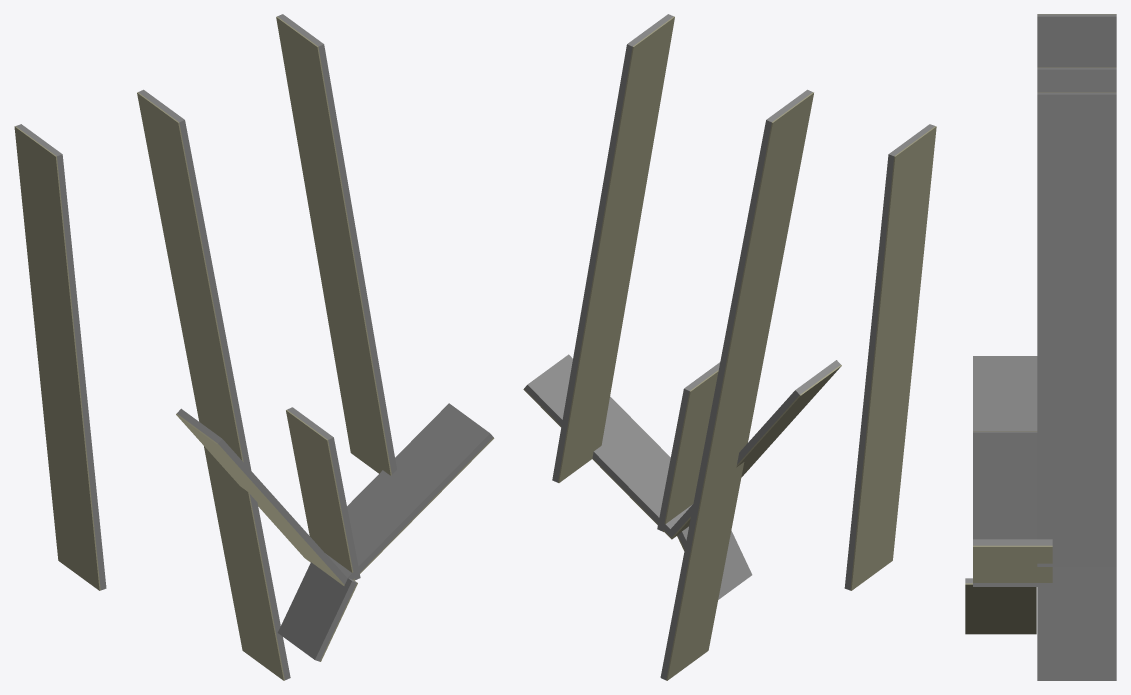
File: Wand$.obj
3 views of the same model, side by side, from view 1: azimuth 30°, elevation 25°; view 2: azimuth 150°, elevation 25°; view 3: azimuth 270°, elevation 25° (orthographic). The views are drawn at different scales.
Parts seen in each view (by area): view 1: STRUCTURAL_-_BEARING PAINT_-_SAND_BEIGE, STRUCTURAL_-_BEARING PAINT_-_LIGHT_GRAY; view 2: STRUCTURAL_-_BEARING PAINT_-_SAND_BEIGE, STRUCTURAL_-_BEARING PAINT_-_LIGHT_GRAY; view 3: STRUCTURAL_-_BEARING PAINT_-_LIGHT_GRAY, STRUCTURAL_-_BEARING PAINT_-_SAND_BEIGE.
Part boxes in pixels (x1,y1,x2,y2): STRUCTURAL_-_BEARING PAINT_-_SAND_BEIGE: (14,16,494,680); STRUCTURAL_-_BEARING PAINT_-_LIGHT_GRAY: (16,14,493,680); STRUCTURAL_-_BEARING PAINT_-_SAND_BEIGE: (523,16,936,680); STRUCTURAL_-_BEARING PAINT_-_LIGHT_GRAY: (524,14,934,680); STRUCTURAL_-_BEARING PAINT_-_LIGHT_GRAY: (965,14,1116,680); STRUCTURAL_-_BEARING PAINT_-_SAND_BEIGE: (965,14,1116,634).
Bounding box in the file's own units: 17559 × 25948 × 5909.
